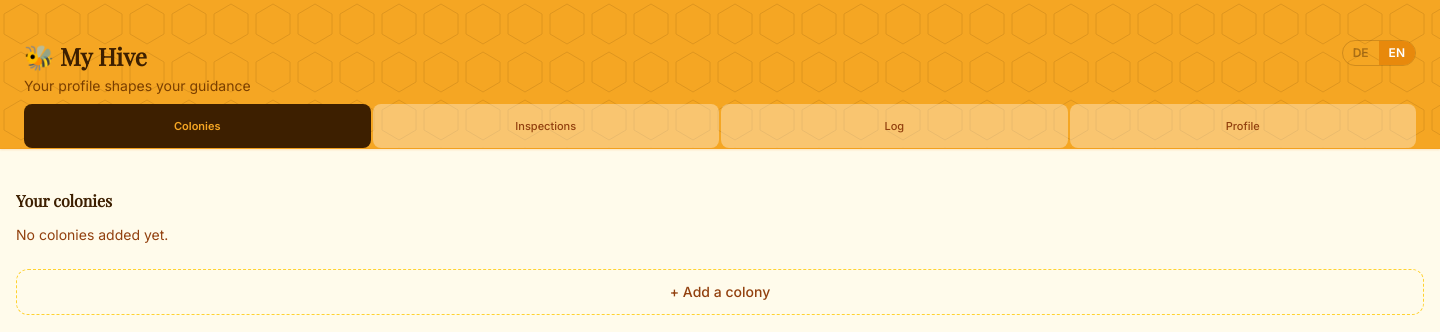
Test case: MyHiveScreen › shows task log entry on log tab
Click the button "Log" at (894, 126), box [721,104,1068,148]
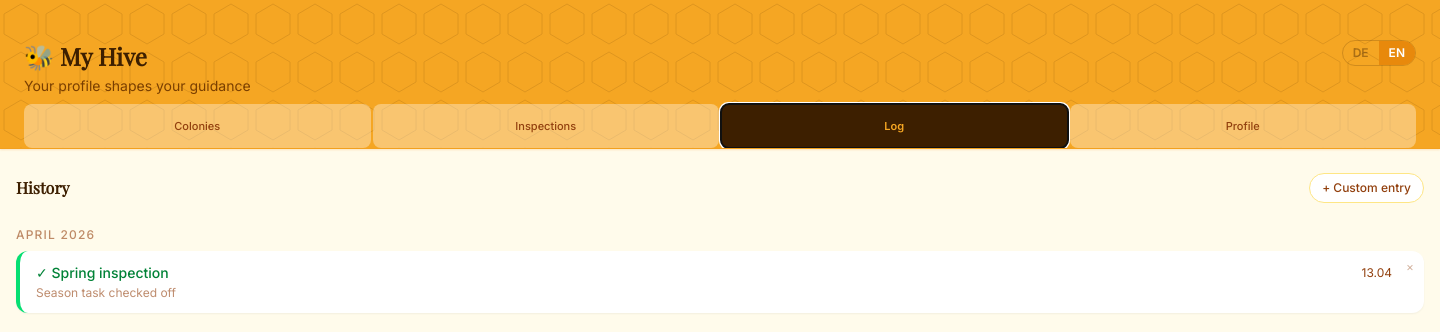
Now the text "✓ Spring inspection" is shown, box [36,263,169,283]
